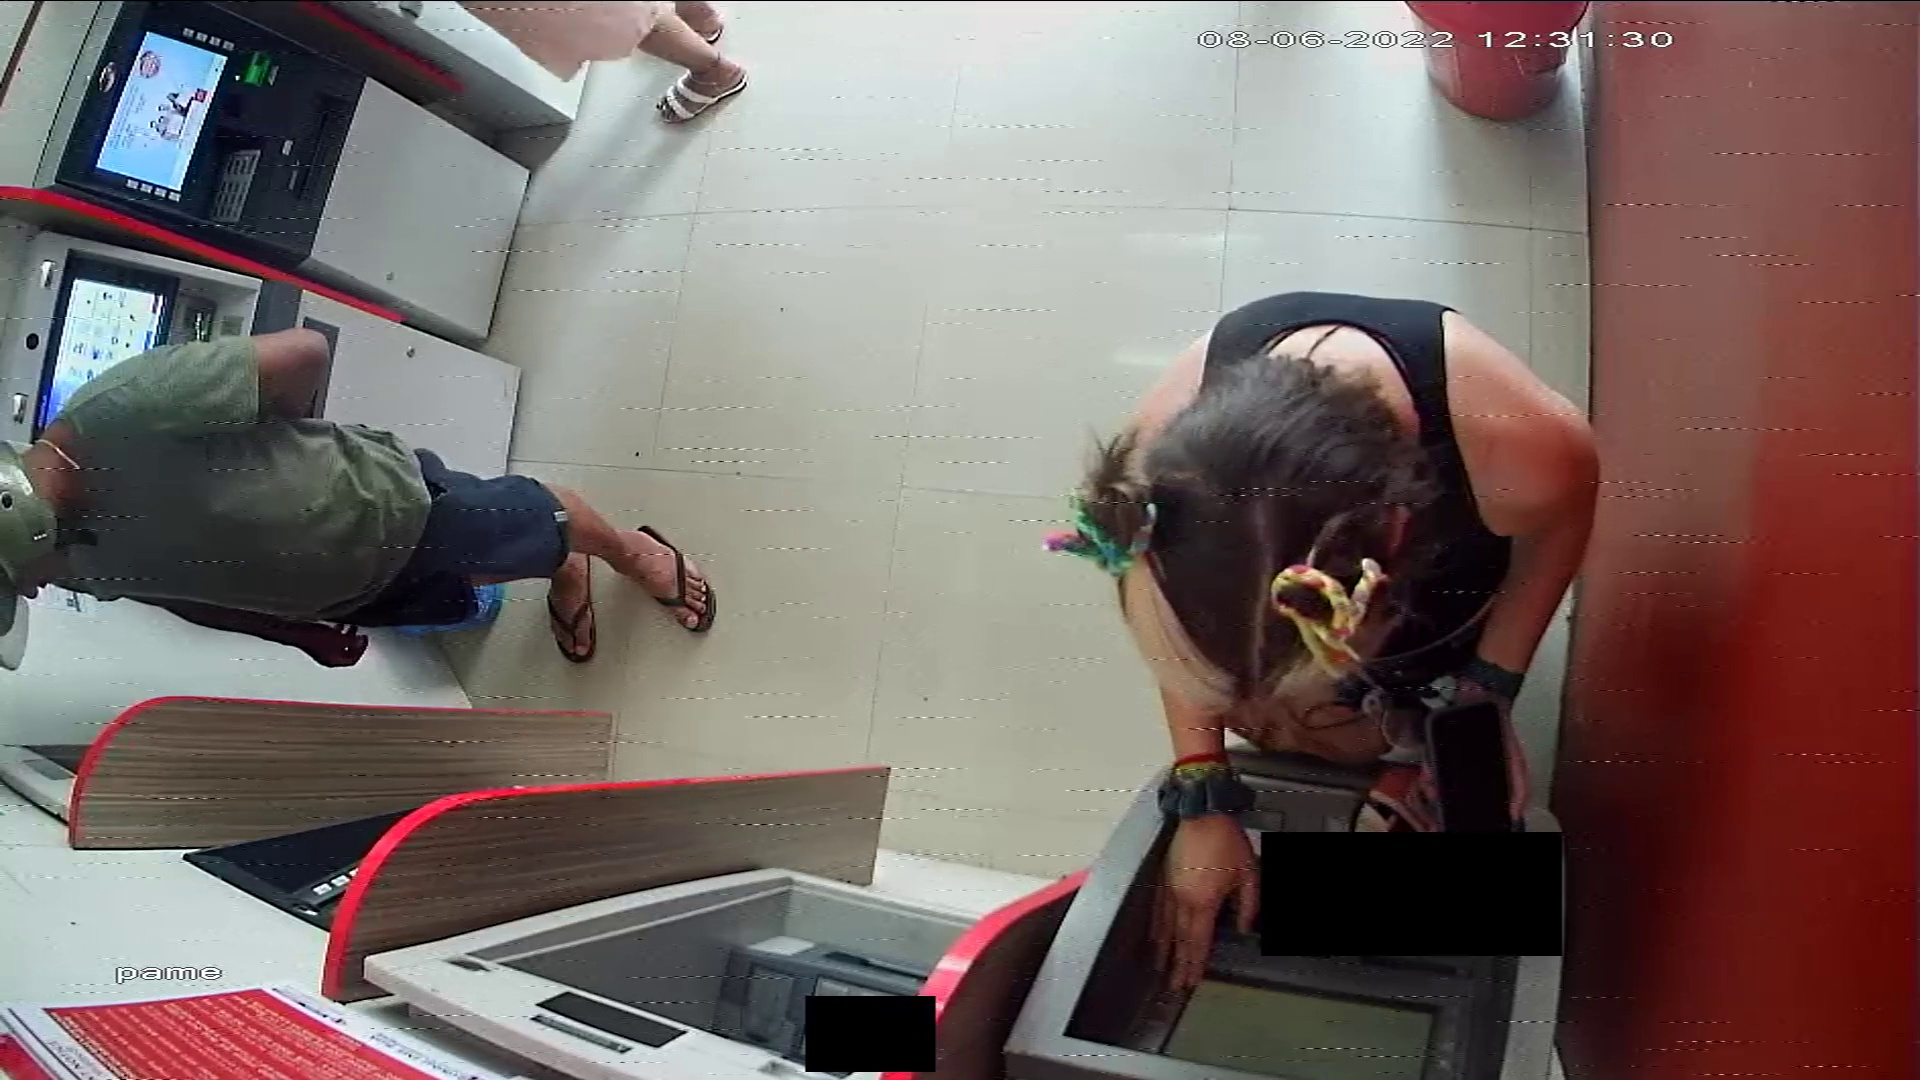helmet: (1, 424, 60, 674)
person: (1089, 292, 1599, 995), (1, 333, 721, 672)
phone: (1426, 702, 1516, 832)
